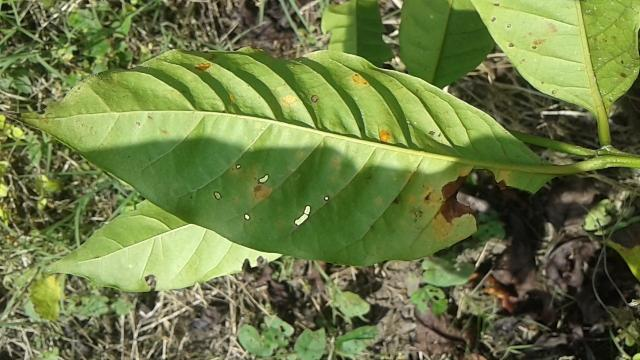rust_level_2: (4, 50, 562, 272)
